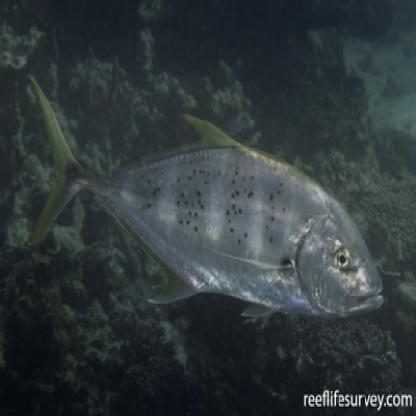Carangidae -Jacks-: (21, 60, 385, 338)
